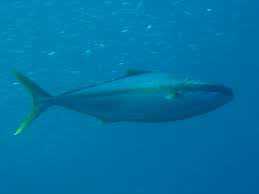hamati: (9, 64, 241, 141)
